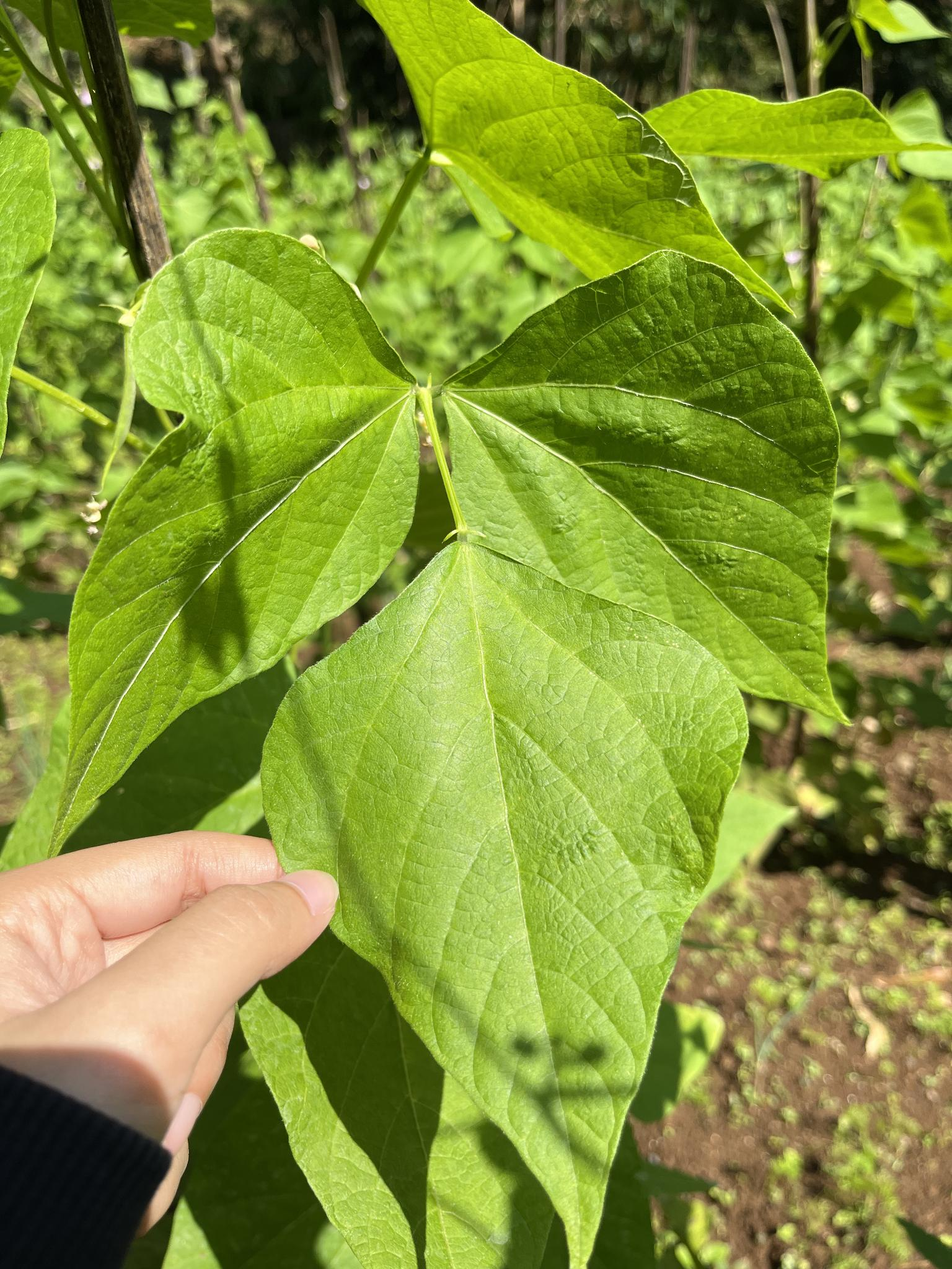sehat: (261, 518, 750, 1269)
